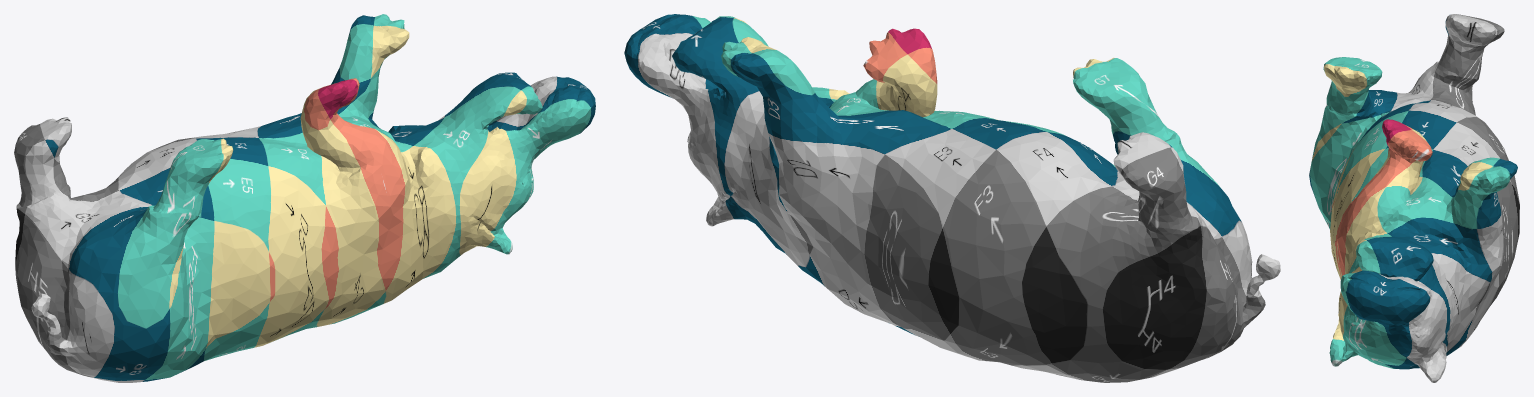
Rendered from hippo_06-hippo_04.obj.
3 renders of one model, left to right at view 1: azimuth 30°, elevation 25°; view 2: azimuth 150°, elevation 25°; view 3: azimuth 270°, elevation 25°, orthographic. The views are drawn at different scales.
Visible parts, largest first — view 1: hippo_06-hippo_04_export; view 2: hippo_06-hippo_04_export; view 3: hippo_06-hippo_04_export.
Boxes of the visible parts, <box> form: hippo_06-hippo_04_export: <box>14,14,595,382</box>; hippo_06-hippo_04_export: <box>624,14,1280,382</box>; hippo_06-hippo_04_export: <box>1309,14,1519,382</box>.
Bounding box in the file's own units: 0.996 × 0.4291 × 0.3337.
